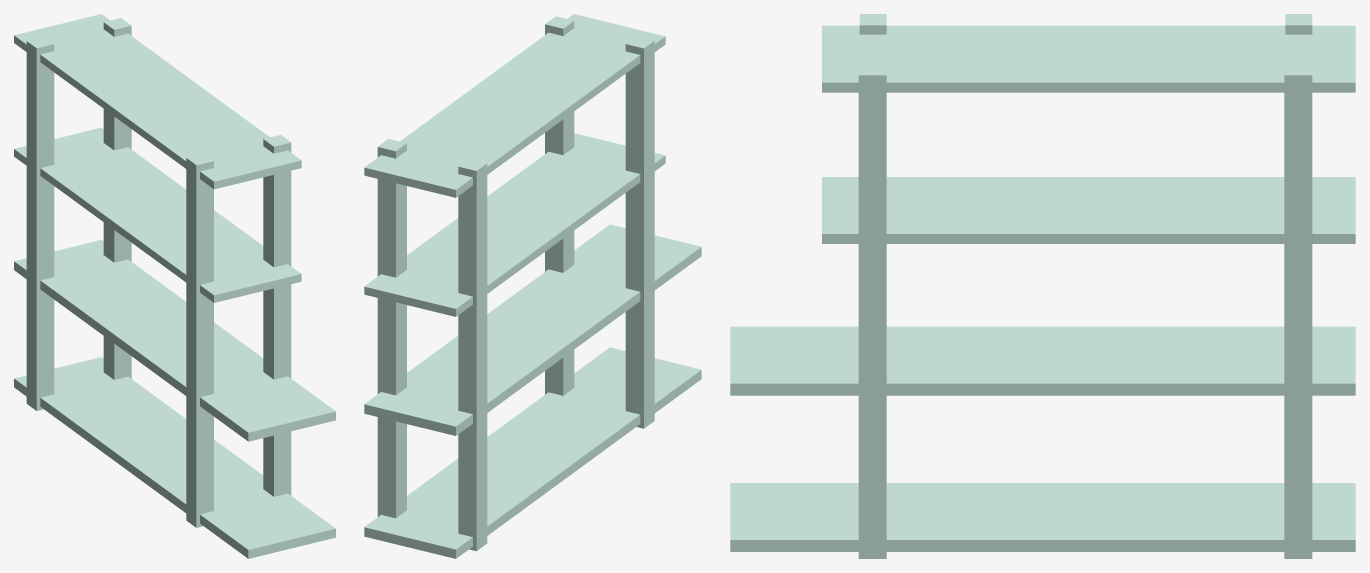
Rendered from expected.gltf.
3 renders of one model, left to right at view 1: azimuth 30°, elevation 25°; view 2: azimuth 150°, elevation 25°; view 3: azimuth 270°, elevation 25°, orthographic. The views are drawn at different scales.
Visible parts, largest first — view 1: Renderer Node; view 2: Renderer Node; view 3: Renderer Node.
Boxes of the visible parts, x1,y1,x2,y2 form: Renderer Node: (14, 14, 335, 558); Renderer Node: (364, 14, 701, 558); Renderer Node: (730, 14, 1355, 558).
Bounding box in the file's own units: 0.2109 × 0.7734 × 0.9063.
